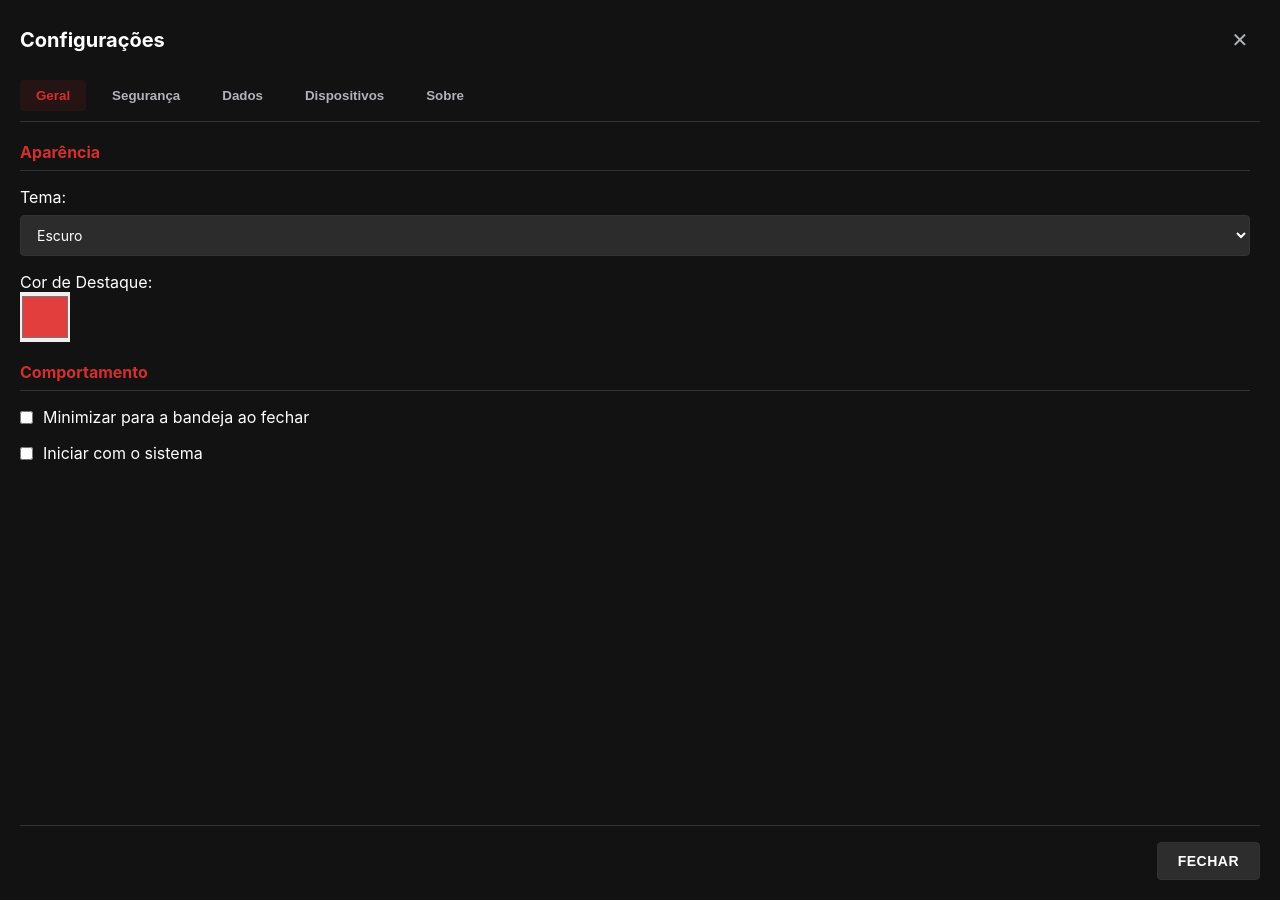
Test case: Settings › handles password change flow (Security Tab)
Click the button "Segurança" at (146, 96), box [96,80,196,111]
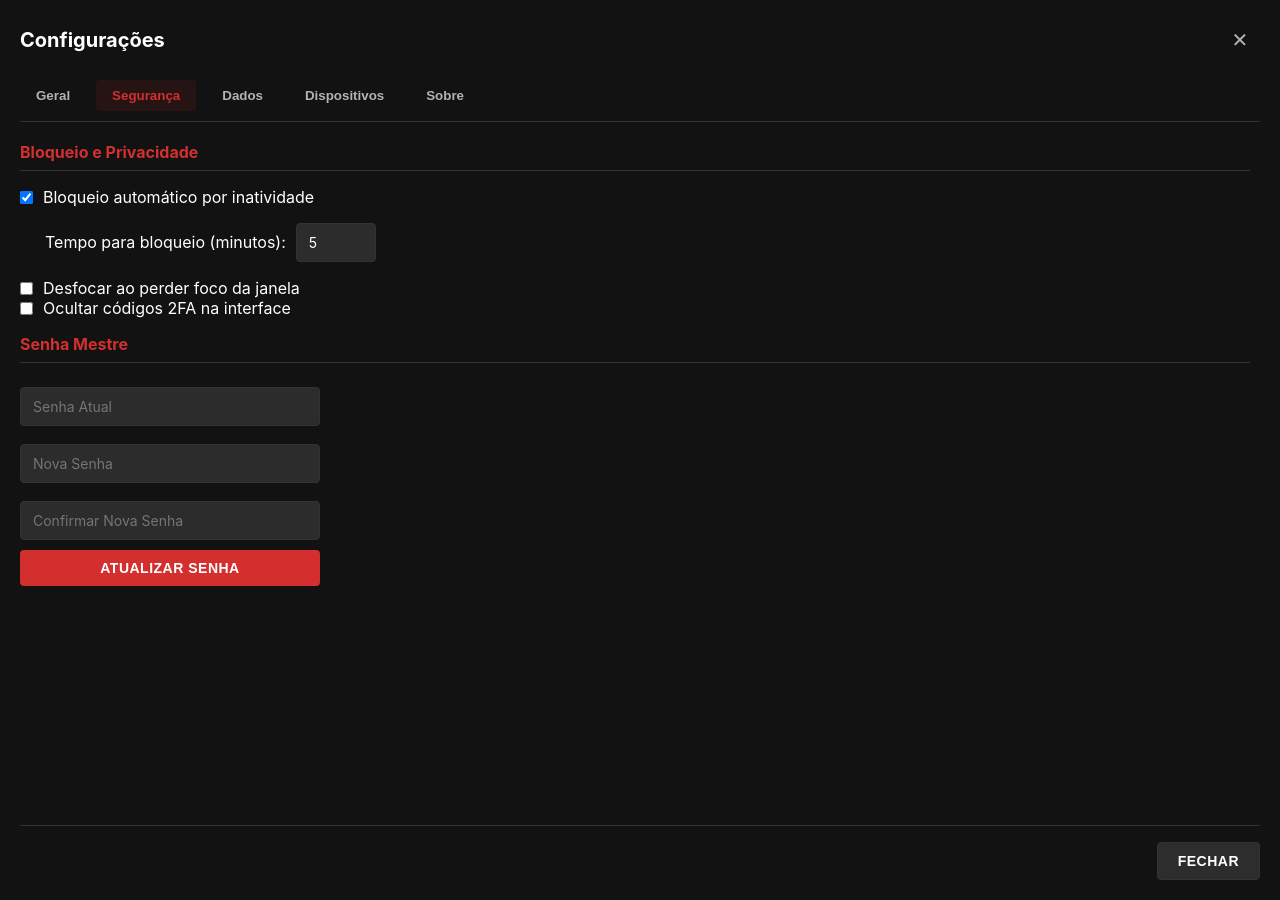
Type "oldpass" into the password field with placeholder "Senha Atual" at (170, 406), box [20,387,320,426]
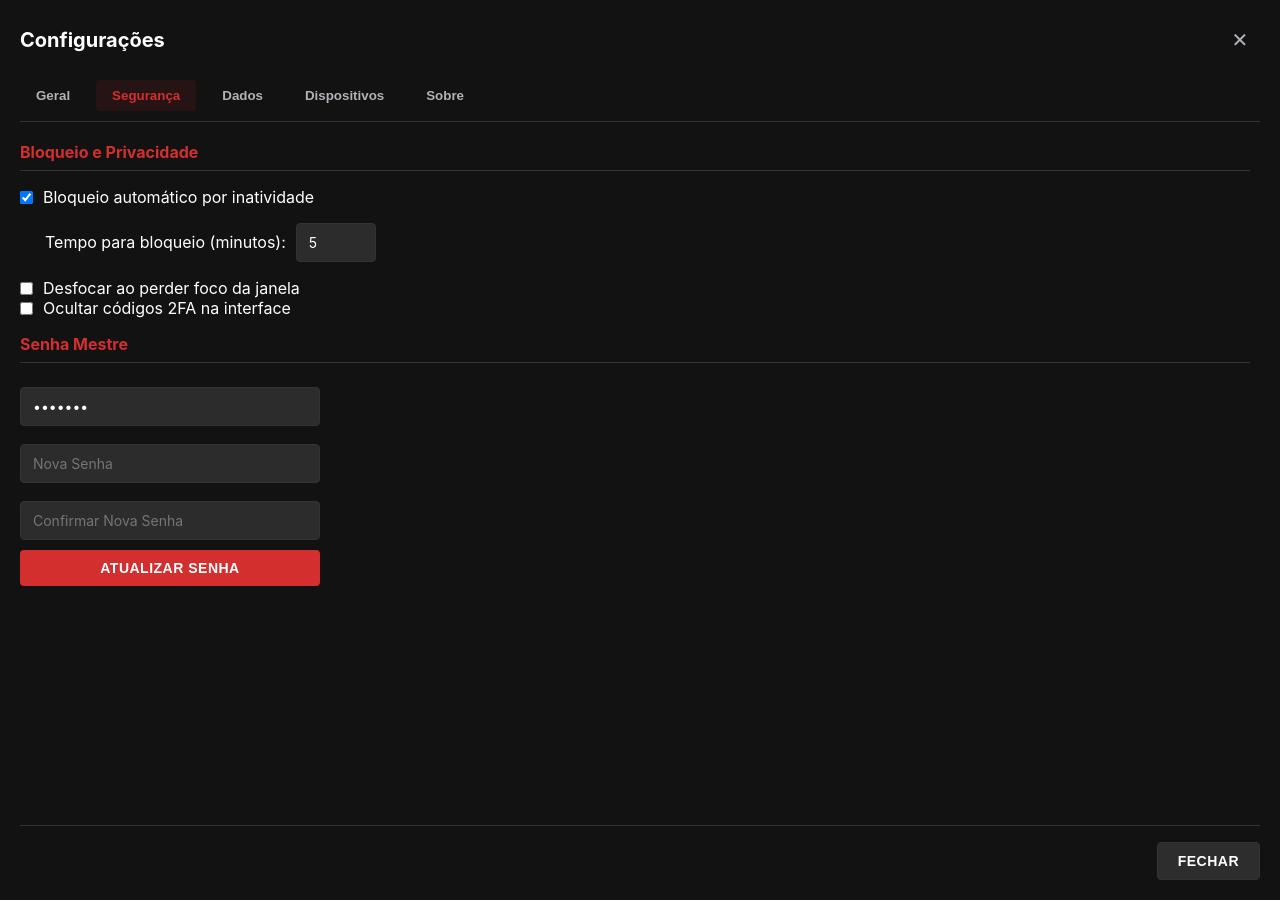
Type "newpass" into the password field with placeholder "Nova Senha" at (170, 464), box [20,444,320,483]
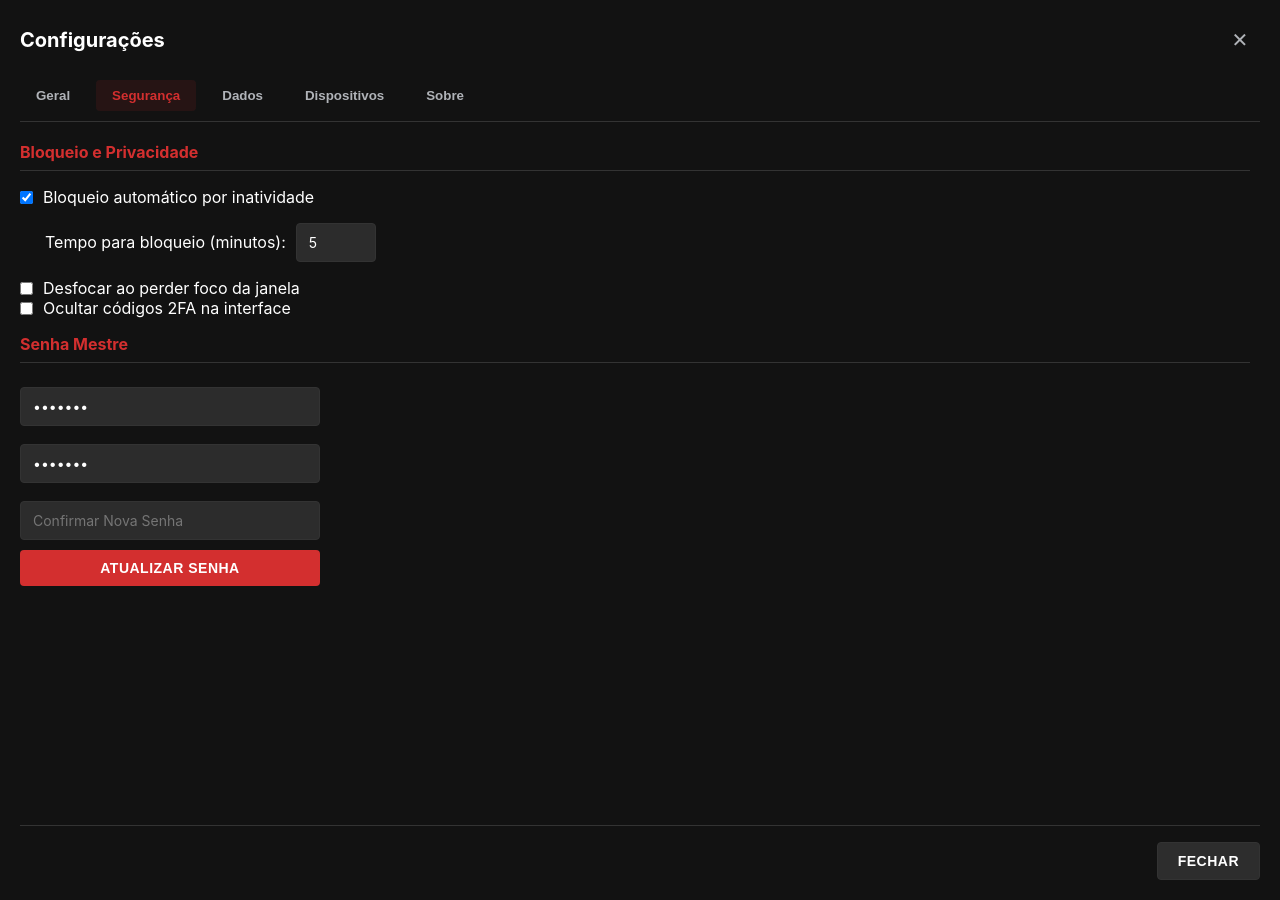
Type "newpass" into the password field with placeholder "Confirmar Nova Senha" at (170, 520), box [20,501,320,540]
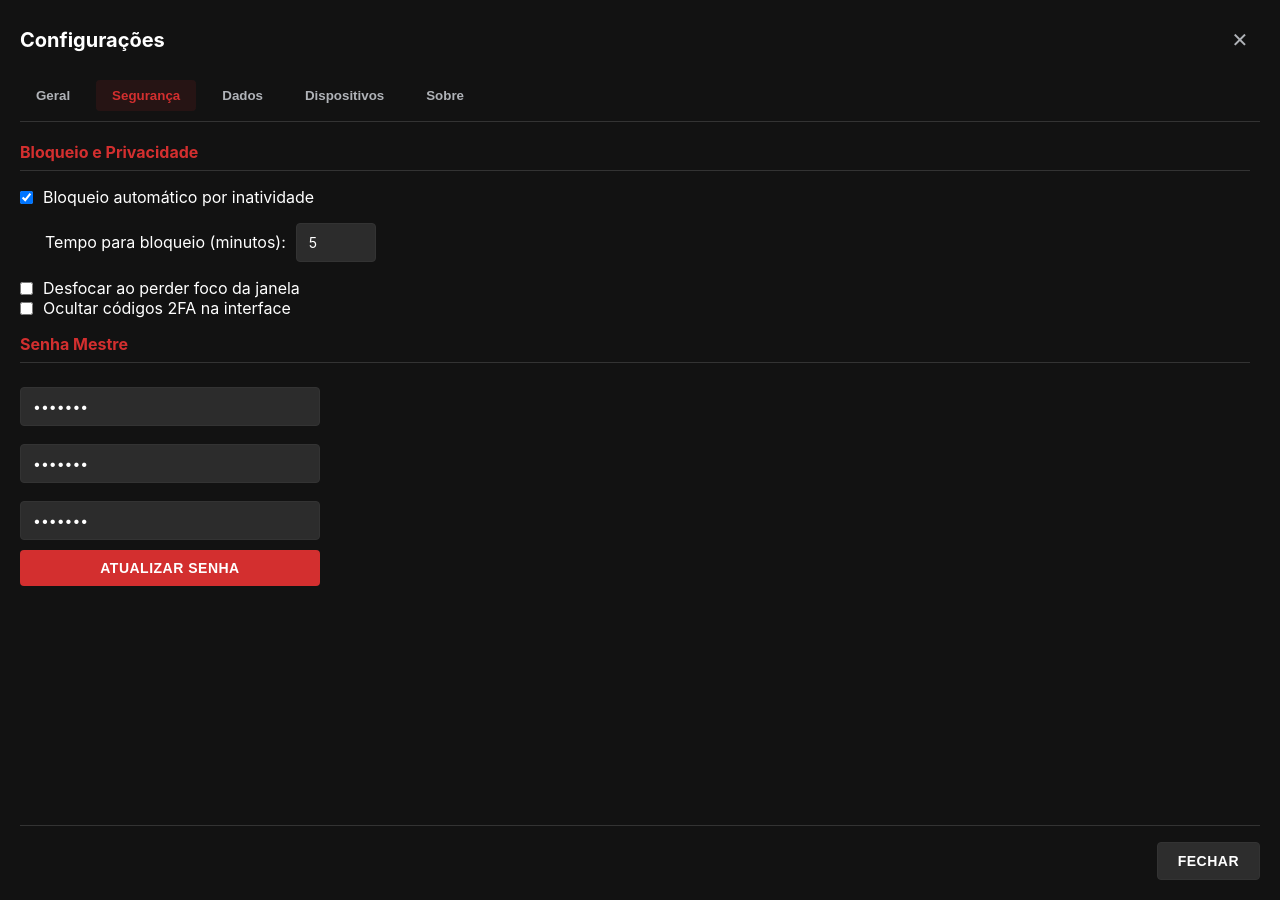
Click the button "Atualizar Senha" at (170, 568), box [20,550,320,586]
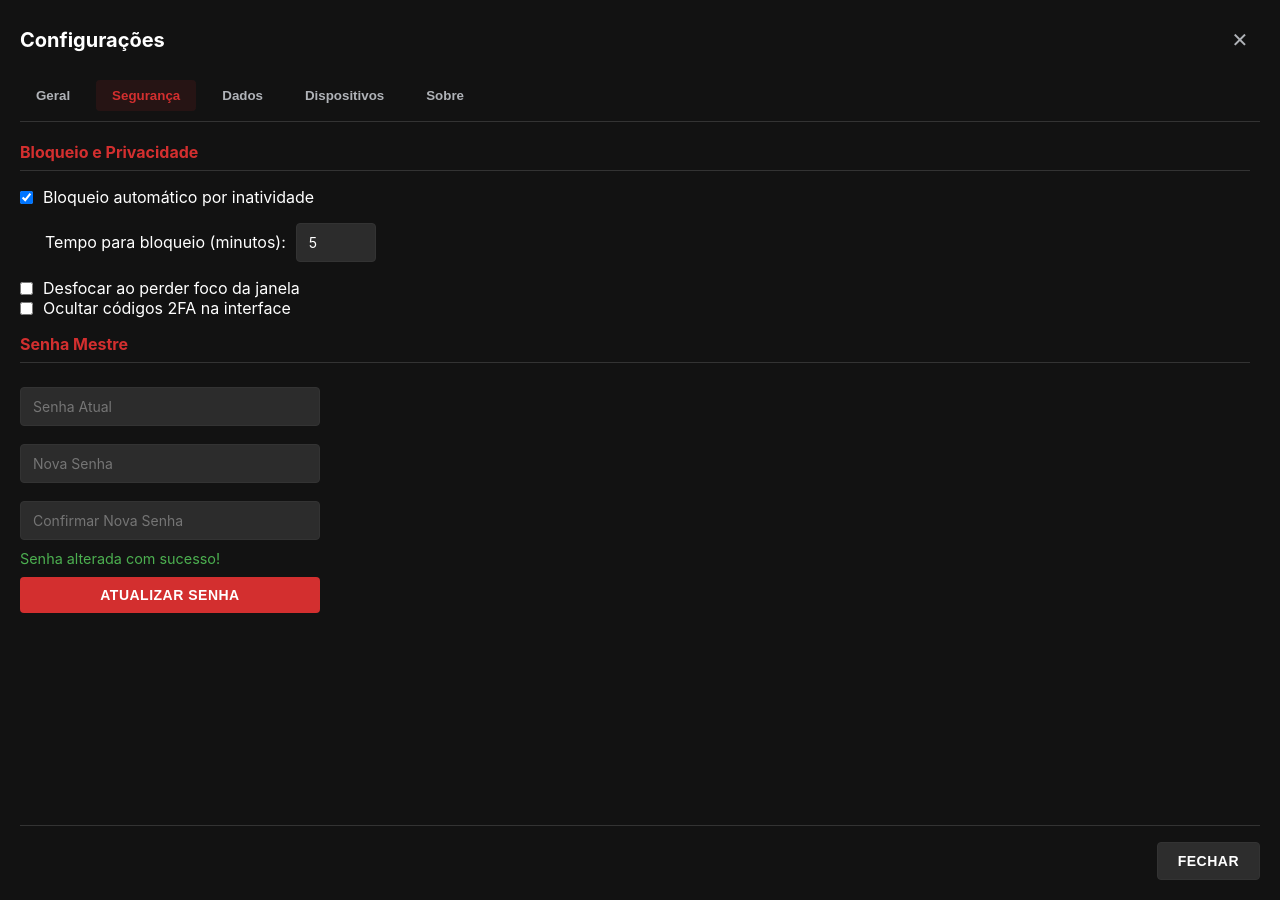
Expected: the text "Senha alterada com sucesso!" is shown, [20,550,220,567]
